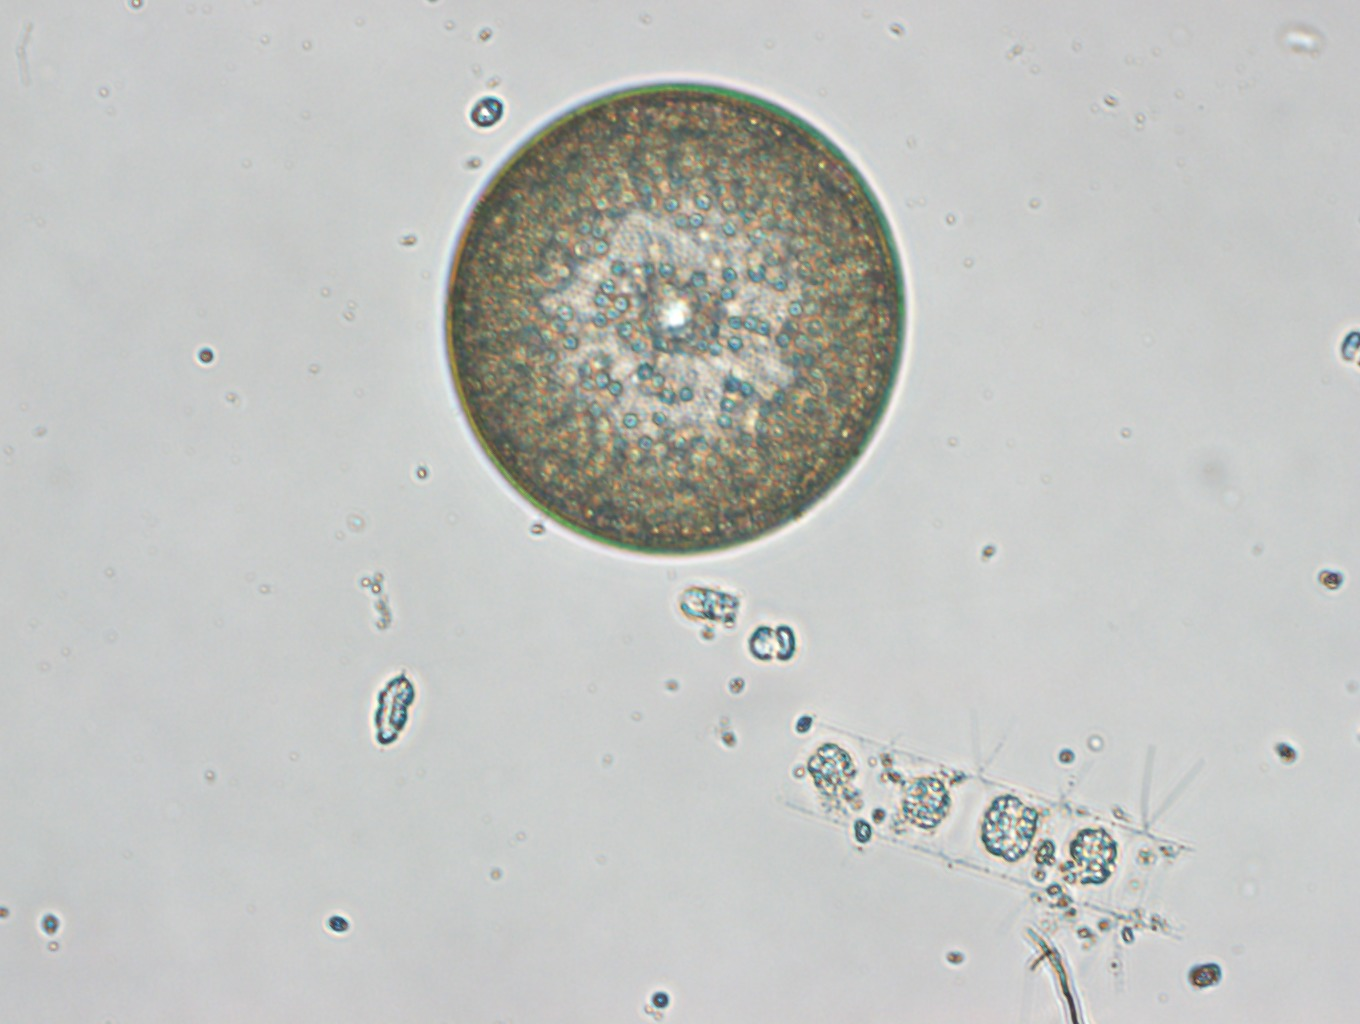chaetoceros: (782, 691, 1192, 999)
coscinodiscus: (440, 77, 912, 563)
